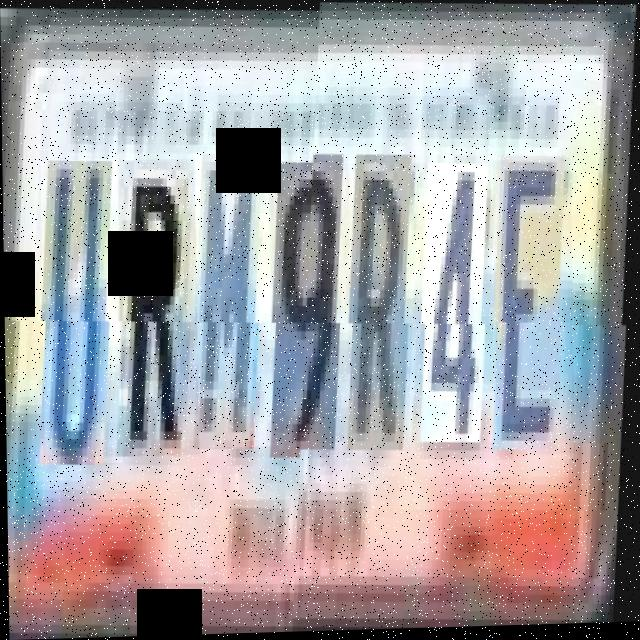4: (421, 170, 496, 451)
9: (270, 161, 352, 459)
E: (493, 162, 574, 460)
M: (194, 152, 271, 450)
R: (117, 160, 198, 458), (348, 161, 419, 459)
U: (40, 159, 121, 465)
